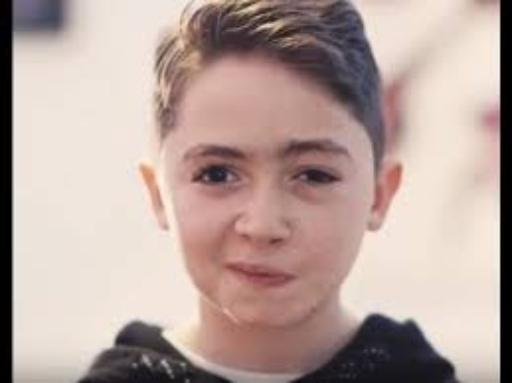left_eye: (289, 167, 346, 190)
left_lip_corner: (282, 270, 306, 286)
right_eye: (190, 163, 250, 188)
right_lip_corner: (219, 259, 240, 277)
